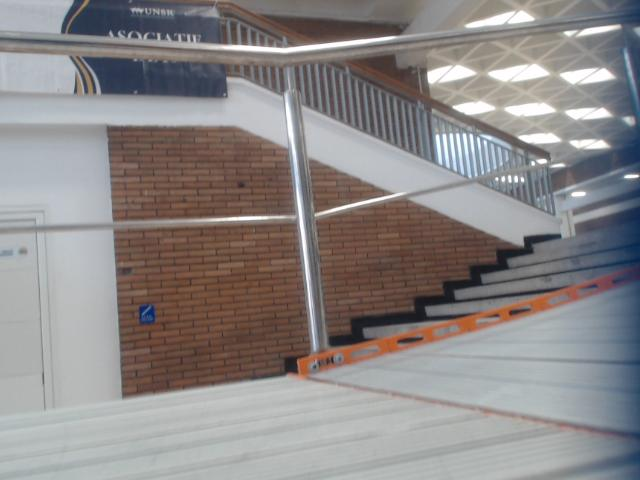ramps-railing: (0, 16, 639, 351)
